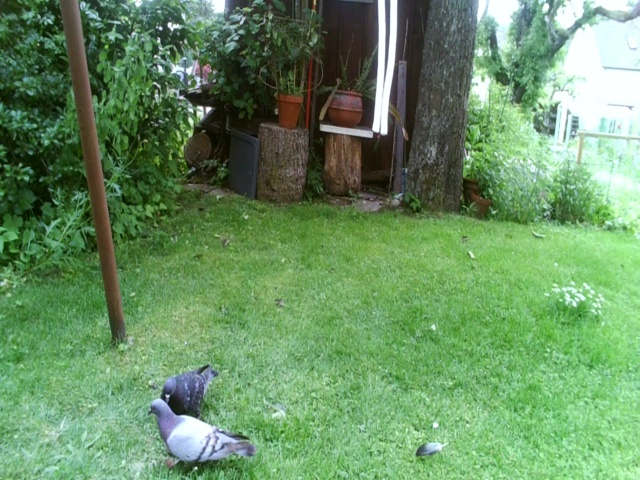Pigeon: (145, 398, 259, 480), (156, 361, 219, 419)
